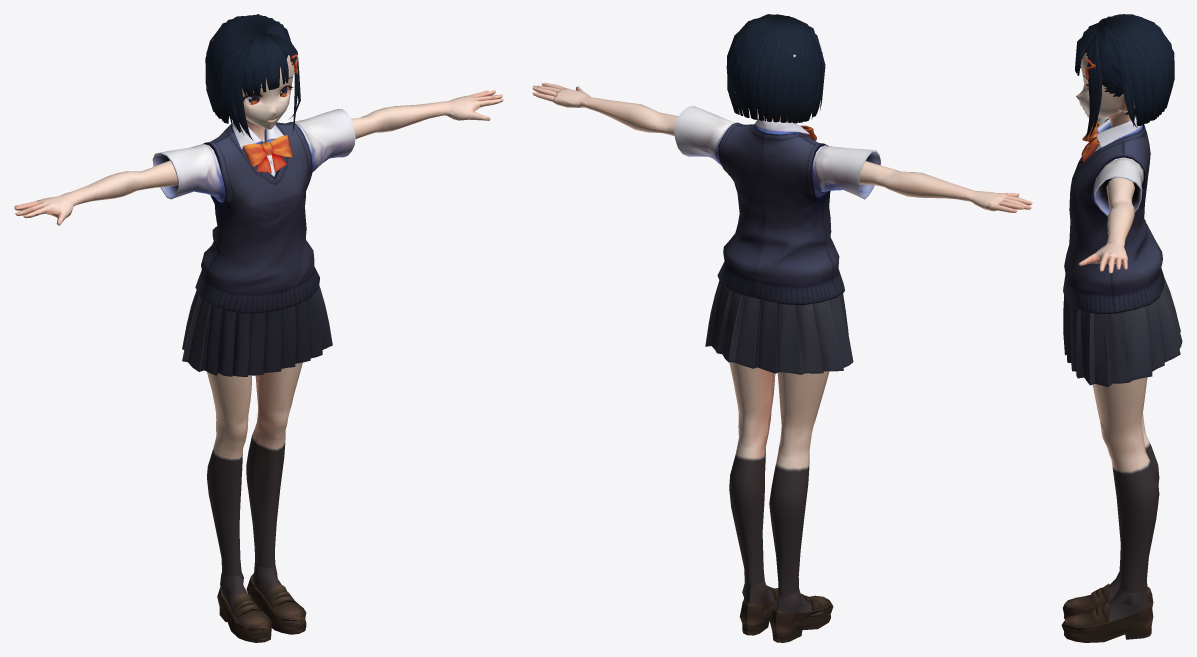
File: player.fbx
3 views of the same model, side by side, from view 1: azimuth 30°, elevation 25°; view 2: azimuth 150°, elevation 25°; view 3: azimuth 270°, elevation 25° (orthographic). The views are drawn at different scales.
Parts seen in each view (by area): view 1: F00_000_00_FaceMouth_00_FACE (Instance); view 2: F00_000_00_FaceMouth_00_FACE (Instance); view 3: F00_000_00_FaceMouth_00_FACE (Instance).
Part boxes in pixels (box(x1,y1,x2,y2)): F00_000_00_FaceMouth_00_FACE (Instance): box(14, 14, 503, 642); F00_000_00_FaceMouth_00_FACE (Instance): box(532, 14, 1032, 642); F00_000_00_FaceMouth_00_FACE (Instance): box(1061, 14, 1182, 642).
Bounding box in the file's own units: 1.38 × 1.62 × 0.292.
2 materials, 2 textured.
